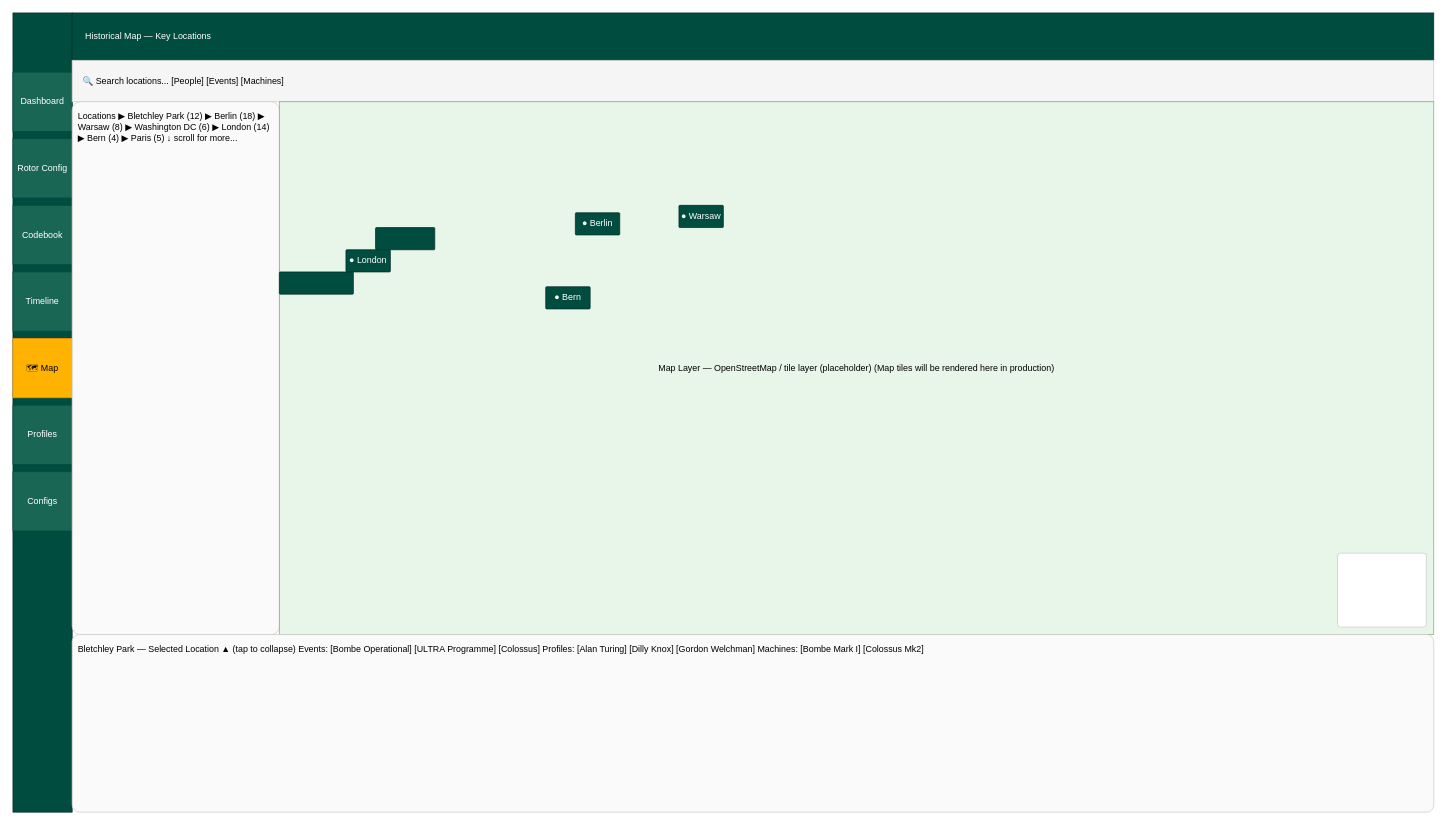
Some shapes in this 1447 by 825 pixel diagram are drawn without their labels. Each missing label, with the box of its shape:
LEGEND ● People ● Events ● Machines: (1337, 552, 1426, 627)
● Bletchley Park: (375, 227, 435, 250)
● Washington DC: (279, 271, 353, 294)
